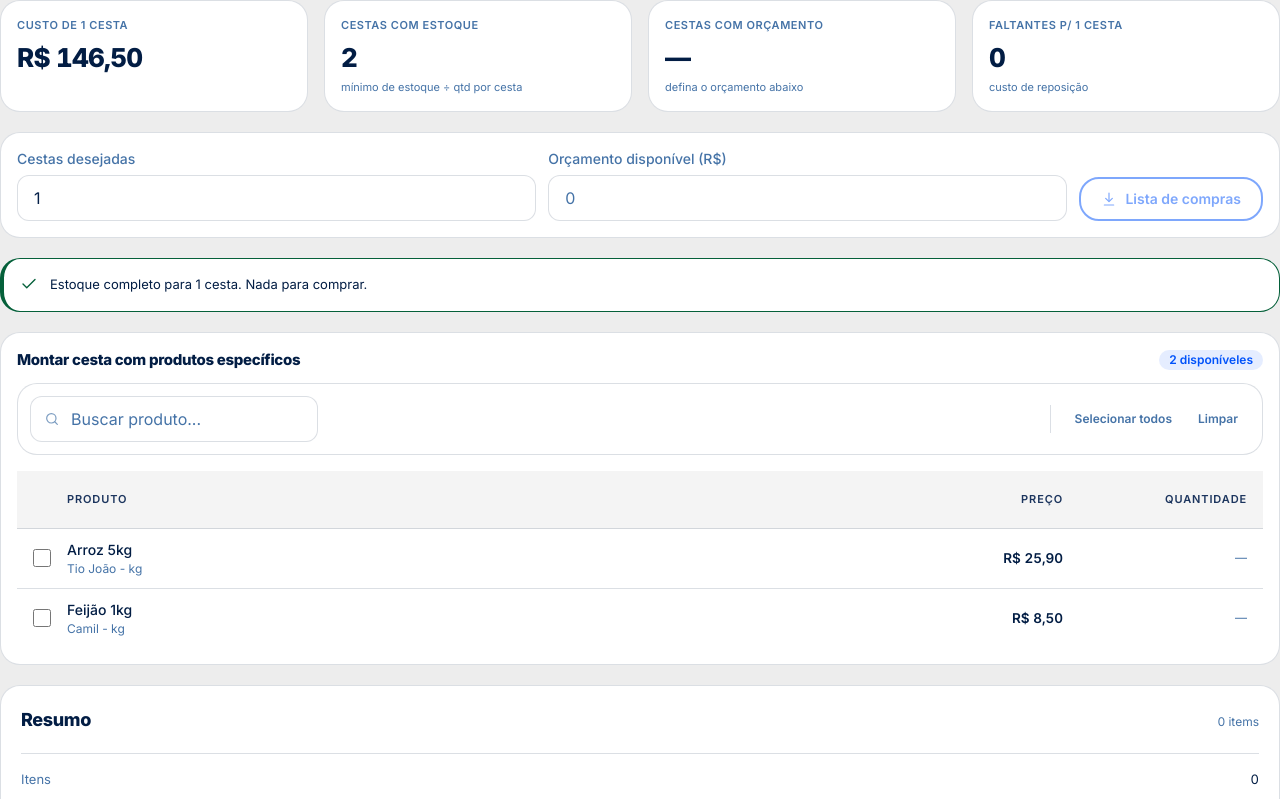
Scenario: SimuladorClient › MONTAGEM DE CESTA (fluxo original) › permite selecionar produto via checkbox
Click the checkbox labelled "Arroz 5kg Tio João - kg" at [42, 558], box [33, 549, 51, 567]
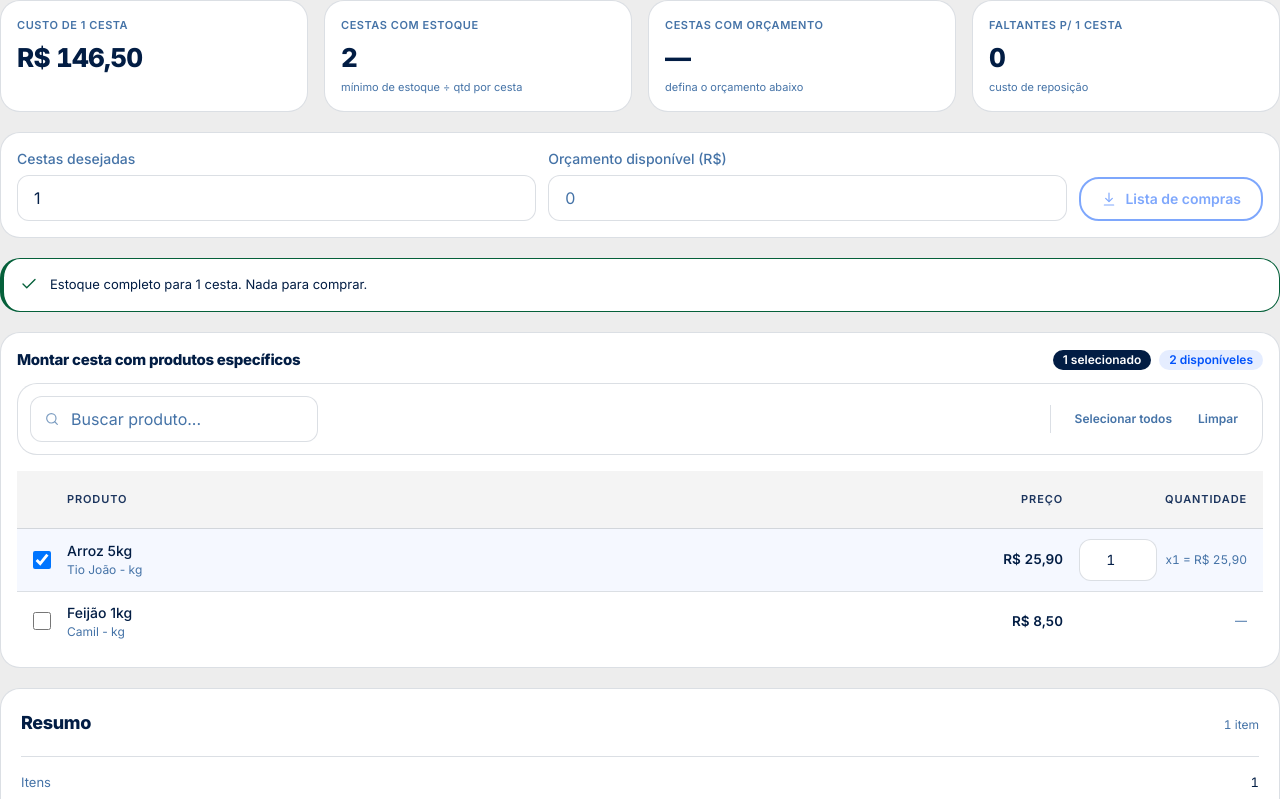
Result: the text "1 selecionado" is shown at [1053, 350, 1151, 370]
